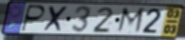2: (90, 7, 115, 34), (140, 8, 163, 35)
3: (70, 5, 93, 35)
M: (115, 7, 147, 35)
P: (19, 4, 47, 33)
X: (42, 5, 71, 33)
